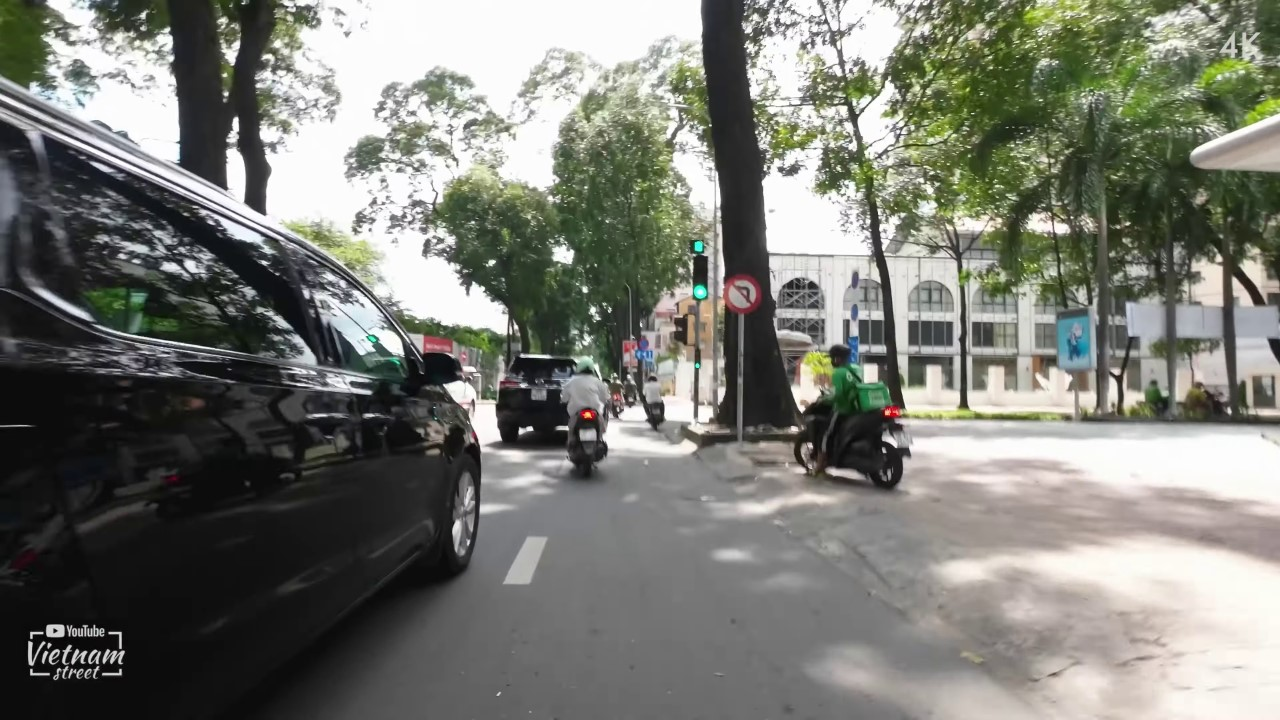cam_re_trai: (721, 273, 766, 317)
